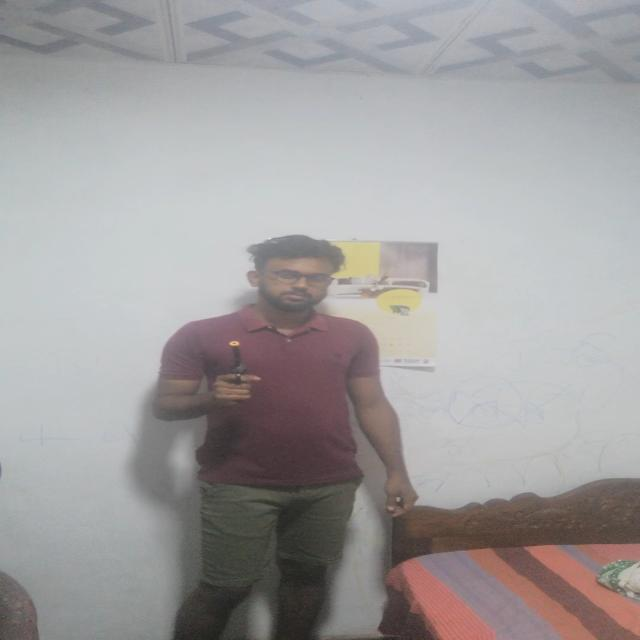Gun_Holder: (202, 335, 288, 407)
Person: (156, 225, 414, 640)
